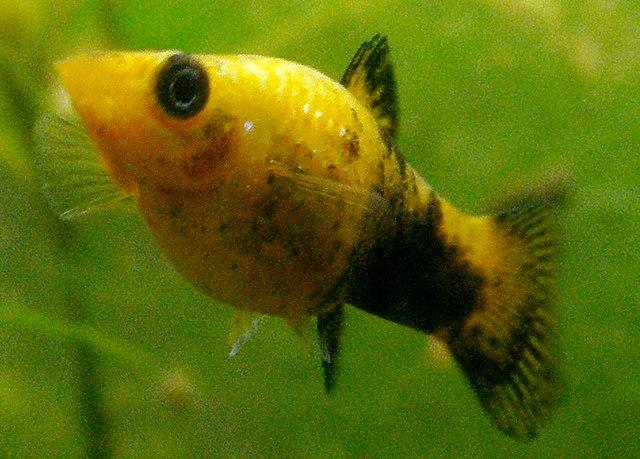Mulut: (29, 28, 134, 121)
Sirip Dada: (15, 80, 391, 297)
Sirip Ekor: (451, 157, 595, 449)
Sirip Perut: (208, 271, 344, 375)
Sirip Punggung: (336, 23, 426, 163)
